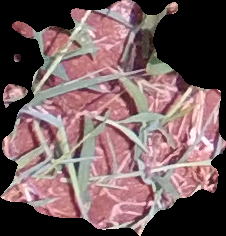grass: (1, 1, 225, 233)
